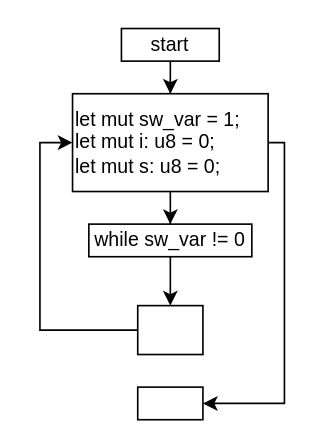
This 326x448 diagram has some shape labels left out. Each missing label, with the centre of its shape:
"s += i; i += 1;" belongs at pixel 169 329.
"stop" belongs at pixel 169 402.
